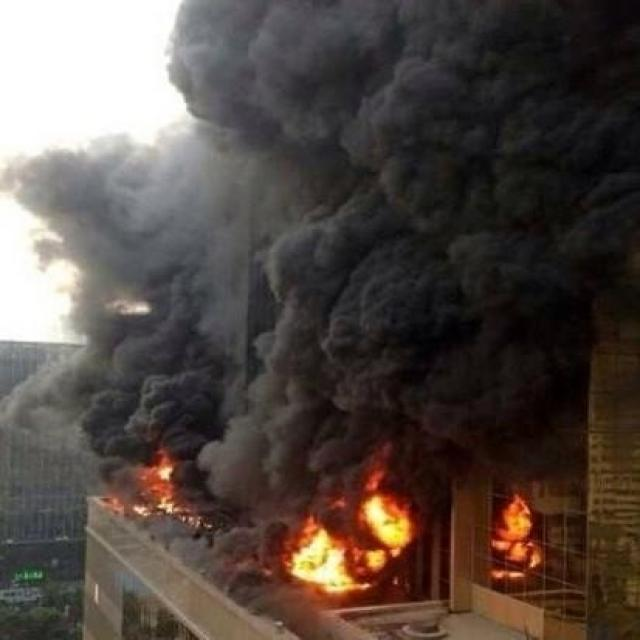Fire: (288, 468, 418, 596), (132, 455, 214, 530)
Smoke: (1, 1, 640, 618)
